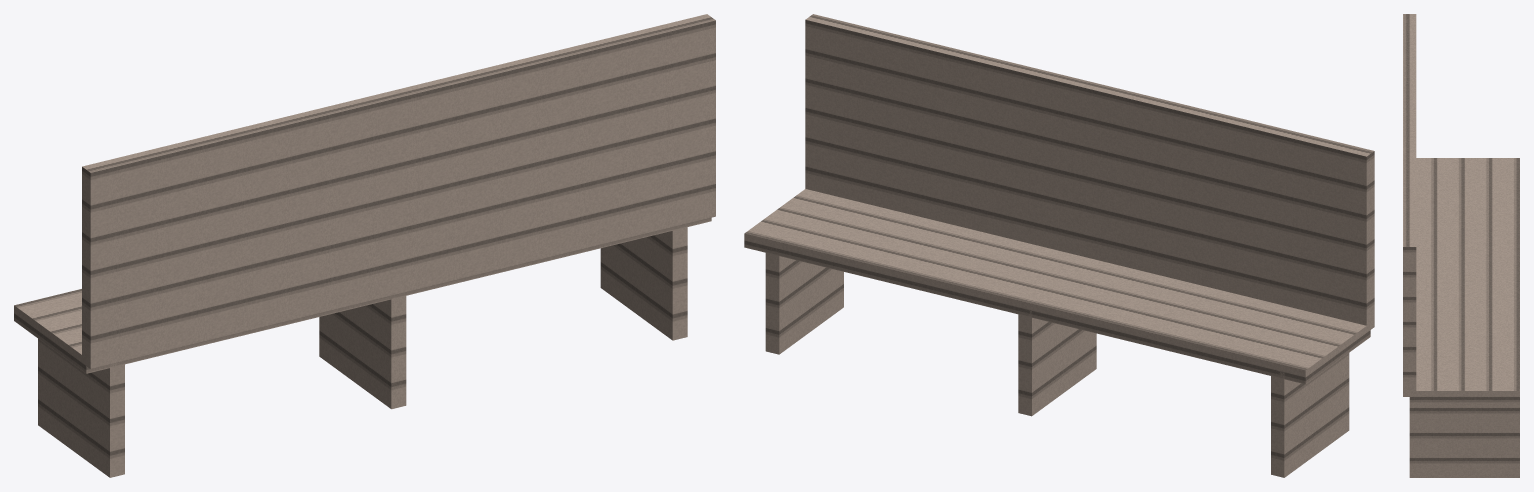
File: courtroom_gallery_bench.glb
3 views of the same model, side by side, from view 1: azimuth 30°, elevation 25°; view 2: azimuth 150°, elevation 25°; view 3: azimuth 270°, elevation 25° (orthographic). The views are drawn at different scales.
Parts seen in each view (by area): view 1: courtroom_gallery_bench-col; view 2: courtroom_gallery_bench-col; view 3: courtroom_gallery_bench-col.
Part boxes in pixels (x1=…): courtroom_gallery_bench-col: x1=14, y1=14, x2=715, y2=477; courtroom_gallery_bench-col: x1=744, y1=14, x2=1374, y2=477; courtroom_gallery_bench-col: x1=1403, y1=14, x2=1519, y2=477.
Bounding box in the file's own units: 2.5 × 1.2 × 0.53.
1 material, 1 textured.
